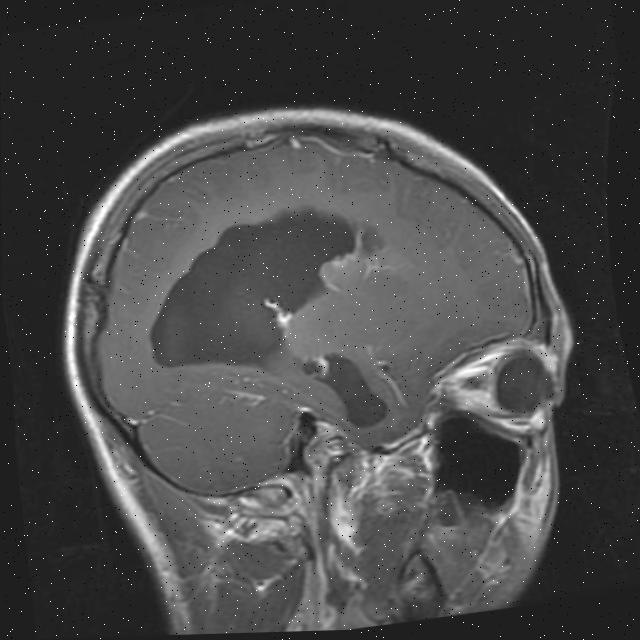Glioma: (316, 248, 377, 296)
